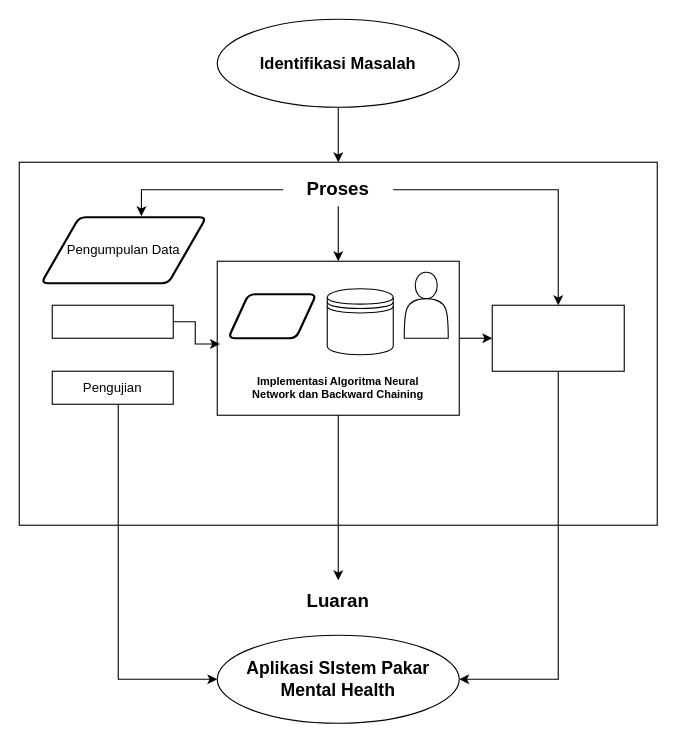
Some shapes in this 677 by 743 pixel diagram are drawn without their labels. Here are the shapes that lost their labels. From the top down, the centre of each, then its label:
(x=112, y=321): Perancangan
(x=557, y=337): Pengembangan Sistem
